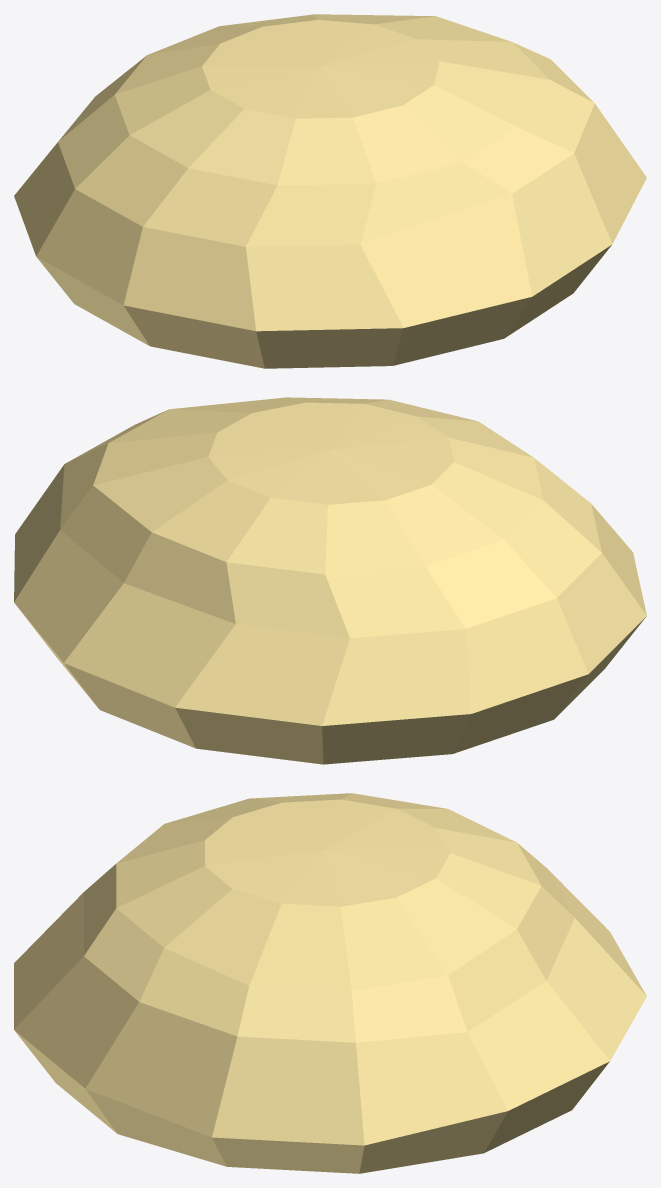
Rendered from island1.fbx.
The picture shows the model from 3 angles, top to bottom: view 1: azimuth 30°, elevation 25°; view 2: azimuth 150°, elevation 25°; view 3: azimuth 270°, elevation 25°; orthographic projection. The views are drawn at different scales.
Parts seen in each view (by area): view 1: Sphere.001; view 2: Sphere.001; view 3: Sphere.001.
Part boxes in pixels (left/top/right/bottom): Sphere.001: left=14, top=14, right=646, bottom=368; Sphere.001: left=14, top=397, right=646, bottom=764; Sphere.001: left=14, top=793, right=646, bottom=1173.
Bounding box in the file's own units: 2256 × 963 × 2102.
